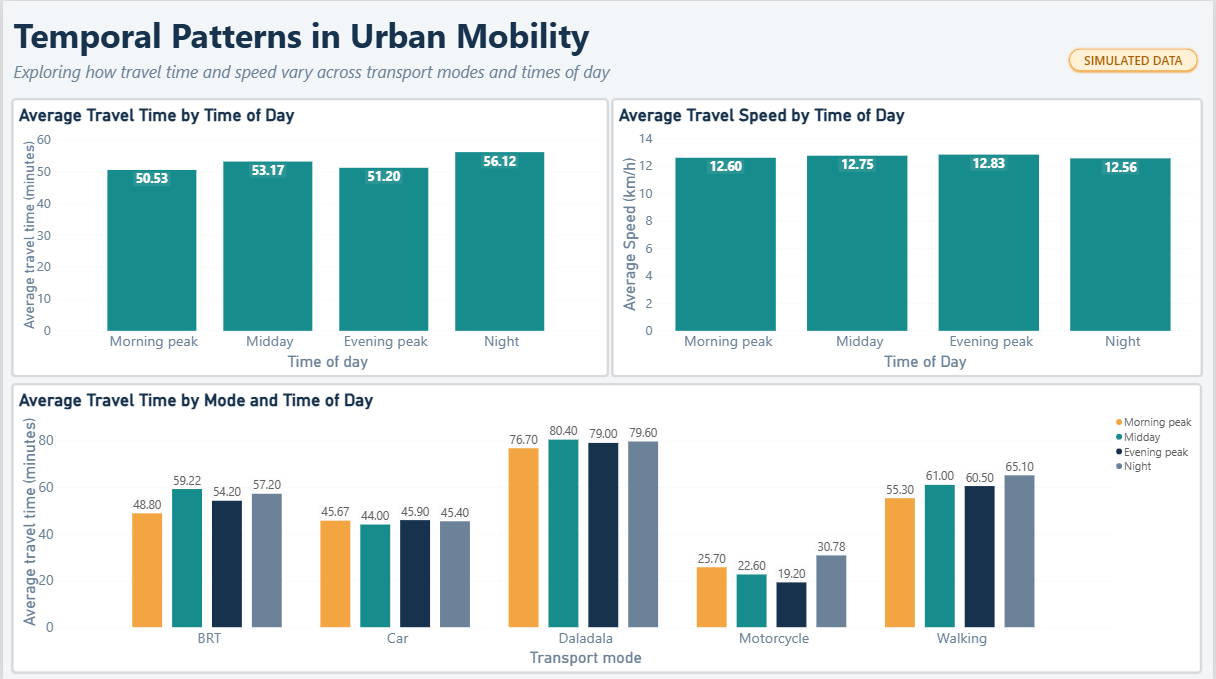

Layout of this report page (visuals, bound fields, positions):
{"tool":"powerbi","page":{"name":"03- Temporal Patterns","canvas":[3840,2160],"ordinal":2},"visuals":[{"type":"textbox","box":[34.2,34.2,3806.1,151.3],"z":0},{"type":"textbox","box":[34.2,185.4,3806.1,83],"z":1},{"type":"shape","box":[3376.7,141.5,424.5,87.8],"z":2},{"type":"clusteredColumnChart","title":"Average Travel Time by Time of Day","fields":{"Category":["TimePeriods.Time of Day"],"Y":["Avg(public trips.travel_time_min)"]},"box":[34.2,312.3,1883.5,873.5],"z":3},{"type":"clusteredColumnChart","title":"Average Travel Speed by Time of Day","fields":{"Category":["TimePeriods.Time of Day"],"Y":["public trips.Average Speed (km/h)"]},"box":[1937.2,312.3,1864,873.5],"z":4},{"type":"clusteredColumnChart","title":"\tAverage Travel Time by Mode and Time of Day","fields":{"Category":["public trips.mode"],"Series":["TimePeriods.Time of Day"],"Y":["Avg(public trips.travel_time_min)"]},"box":[33.3,1219,3766.7,909.5],"z":5}]}

Visuals, with their boxes in screenshot pixels (x1, y1, x2, y2), scaled from the page's 3840x2160 canvas onto the 1216x679 screenshot:
textbox: bbox=[11, 11, 1215, 58]
textbox: bbox=[11, 58, 1215, 84]
shape: bbox=[1069, 44, 1204, 72]
"Average Travel Time by Time of Day" clusteredColumnChart: bbox=[11, 98, 607, 373]
"Average Travel Speed by Time of Day" clusteredColumnChart: bbox=[613, 98, 1204, 373]
"	Average Travel Time by Mode and Time of Day" clusteredColumnChart: bbox=[11, 383, 1203, 669]
